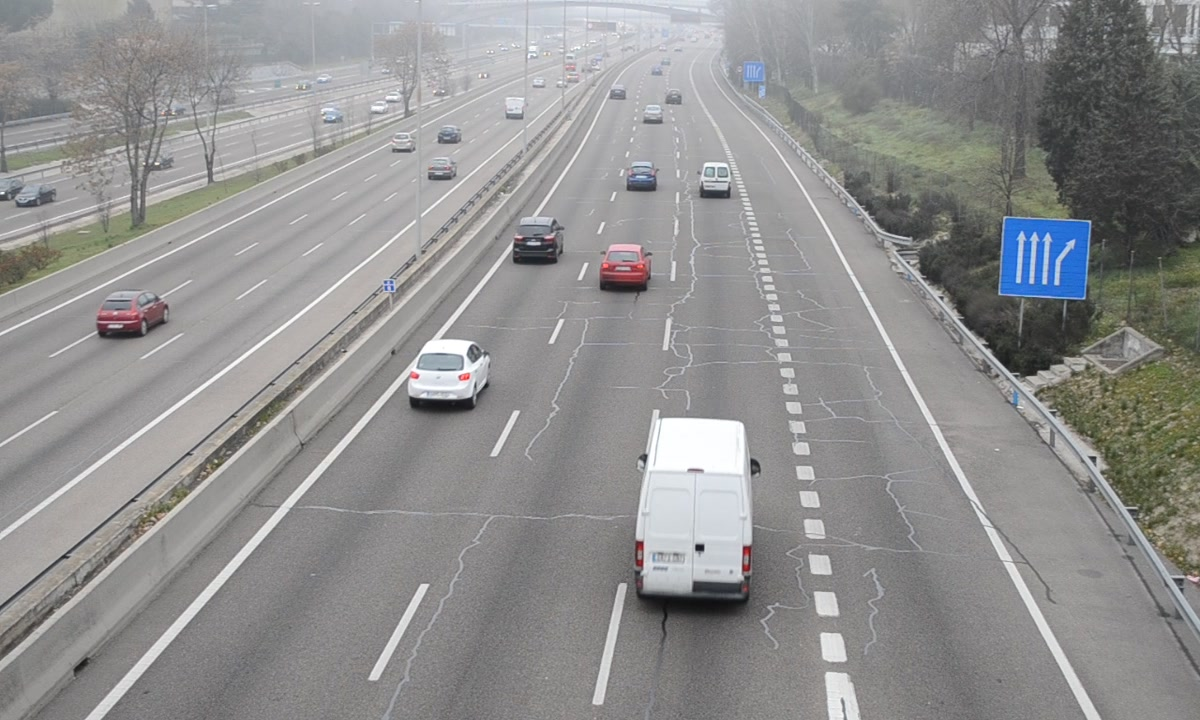car: (409, 339, 489, 402), (512, 217, 563, 265), (599, 242, 650, 289), (625, 161, 658, 191)
van: (635, 418, 755, 604), (700, 162, 733, 199)
